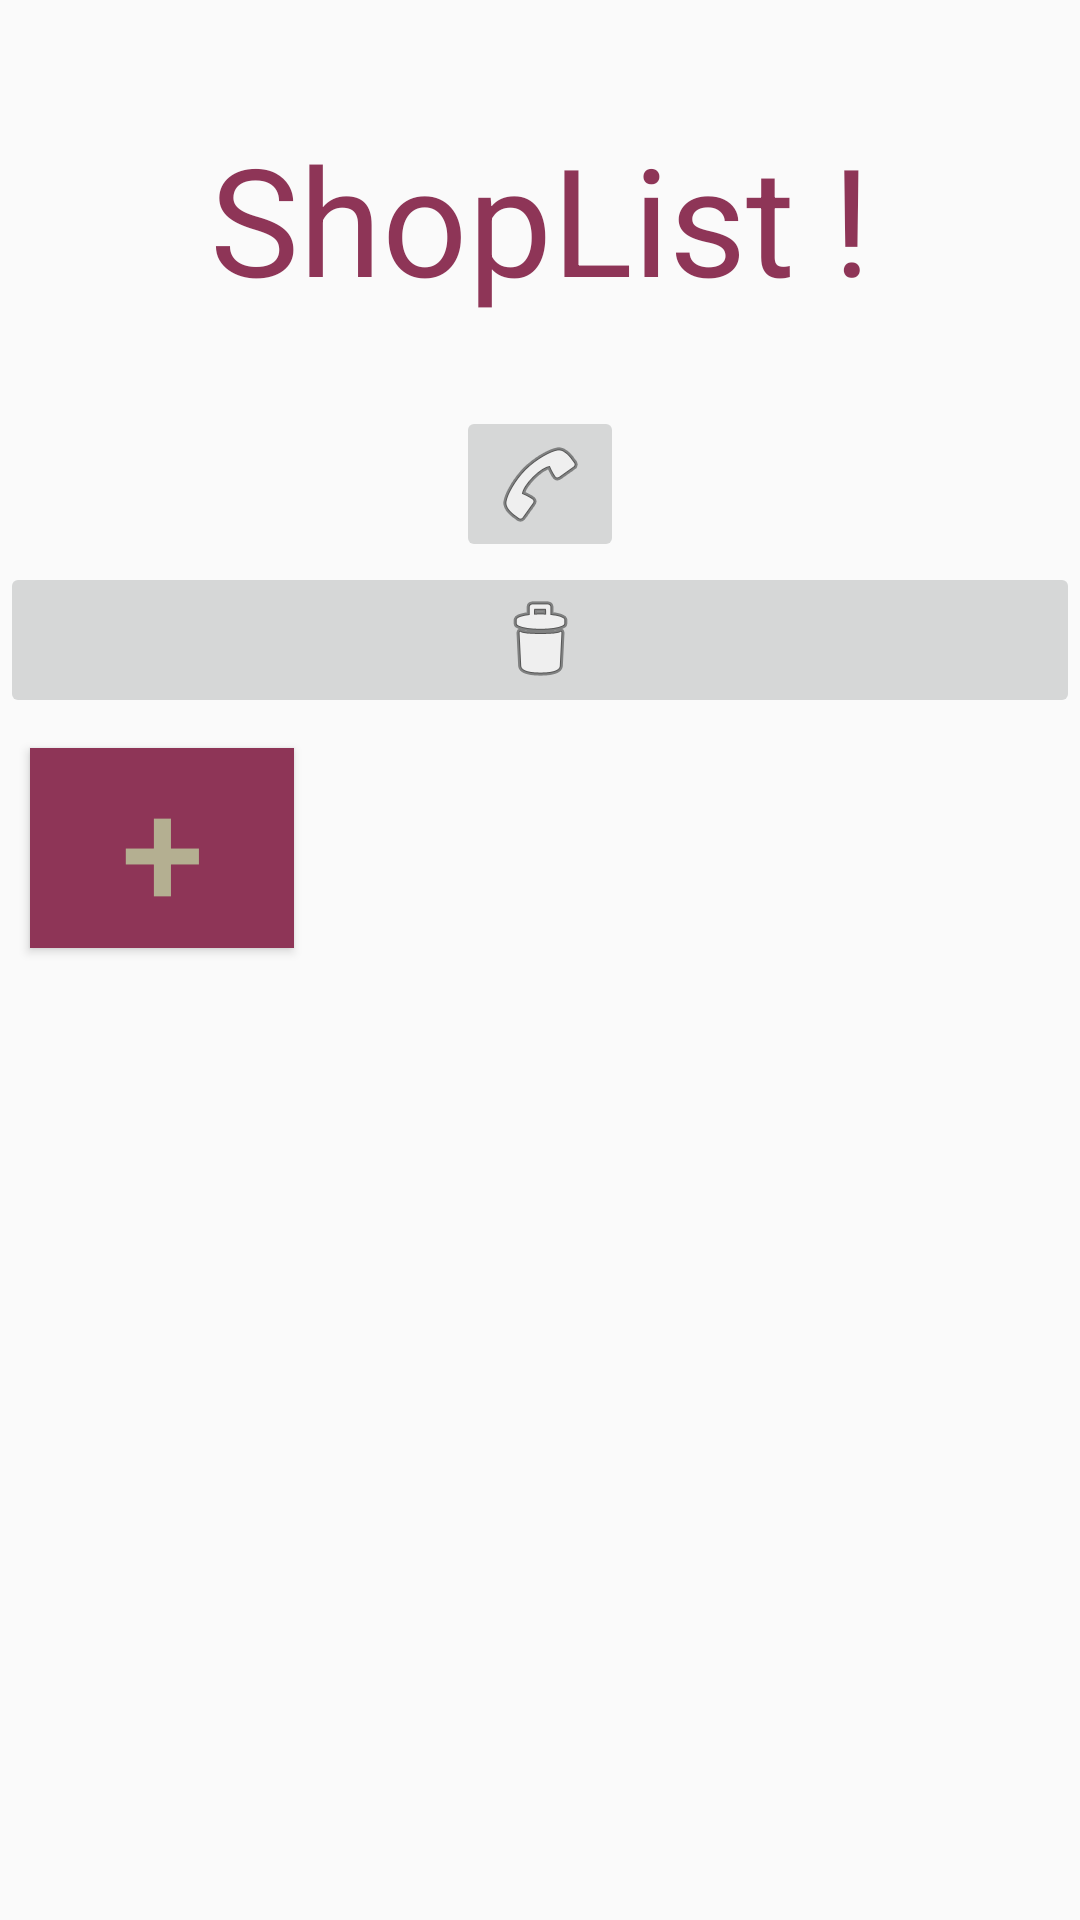

Icon bounding boxes for this 1080*1920 phone screenshot, format (x1, y1, x2, y2):
call: (468, 424, 612, 544)
